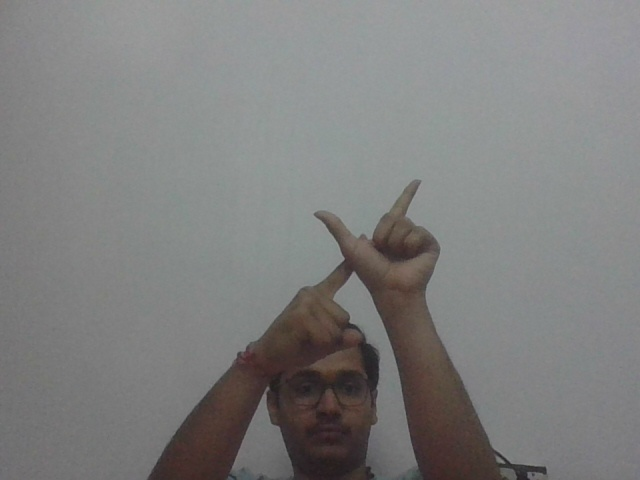Y: (298, 172, 442, 350)
